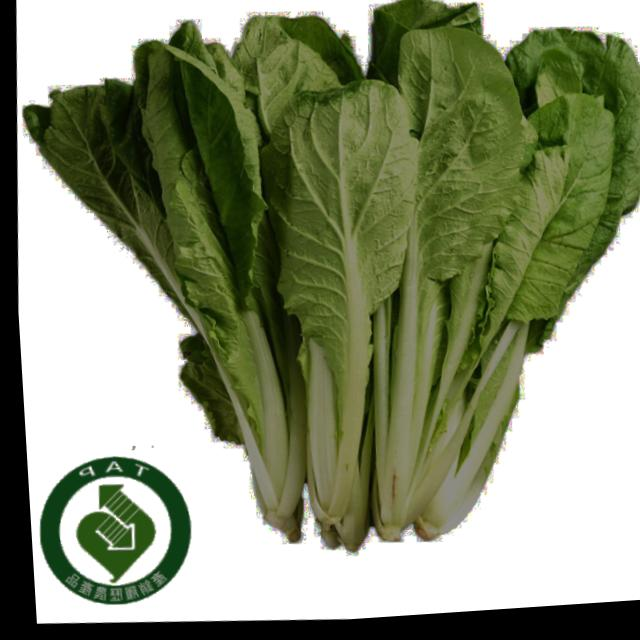chinese_cabbage: (40, 0, 640, 569)
